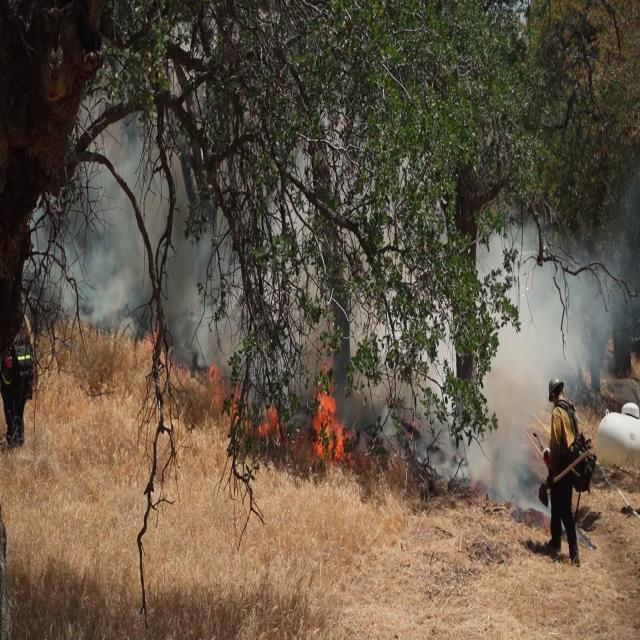Fire: (310, 386, 348, 456)
Smoke: (20, 120, 209, 339), (490, 220, 624, 422)
